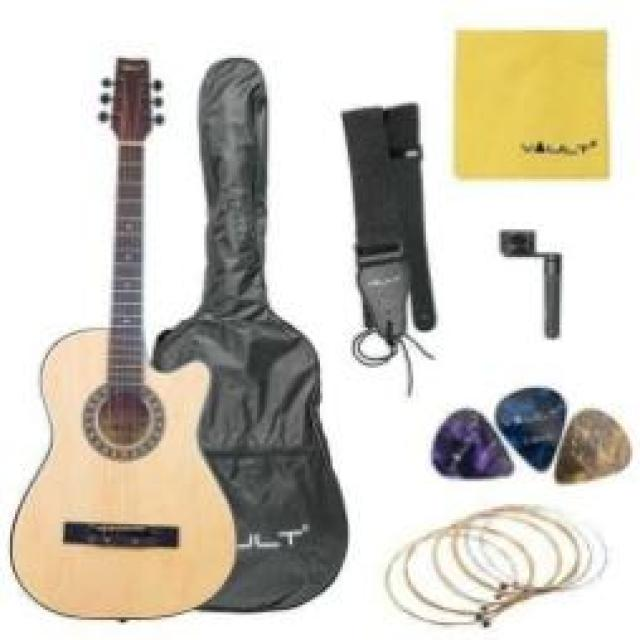acousticguitar: (10, 58, 234, 617)
